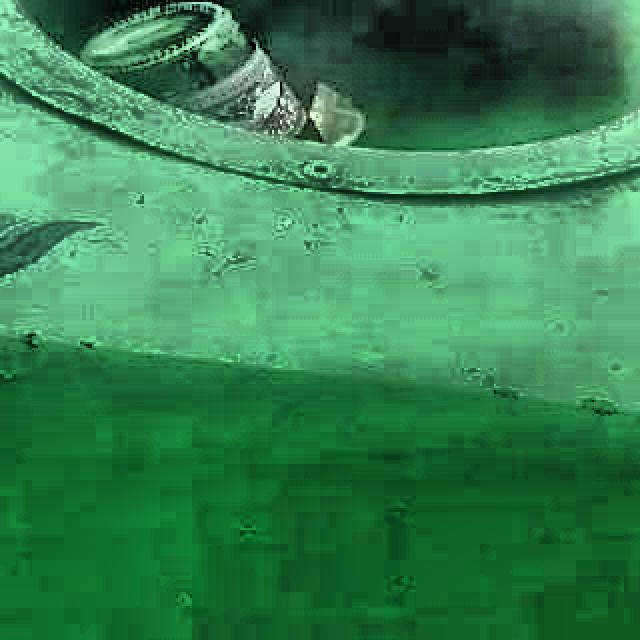glass: (80, 5, 309, 136)
